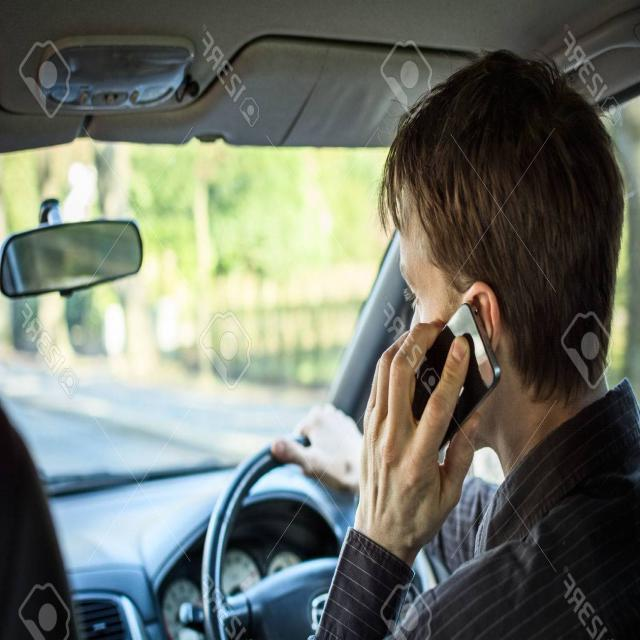phone: (394, 304, 498, 446)
